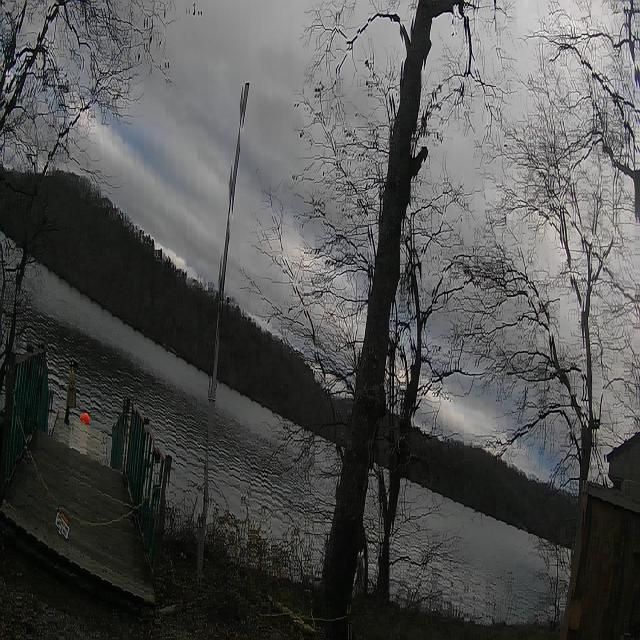Buoy: (79, 410, 91, 429)
